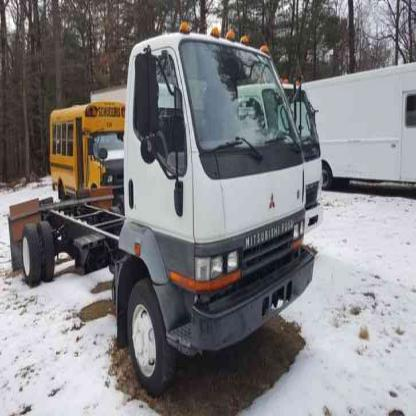truck: (9, 33, 316, 397)
